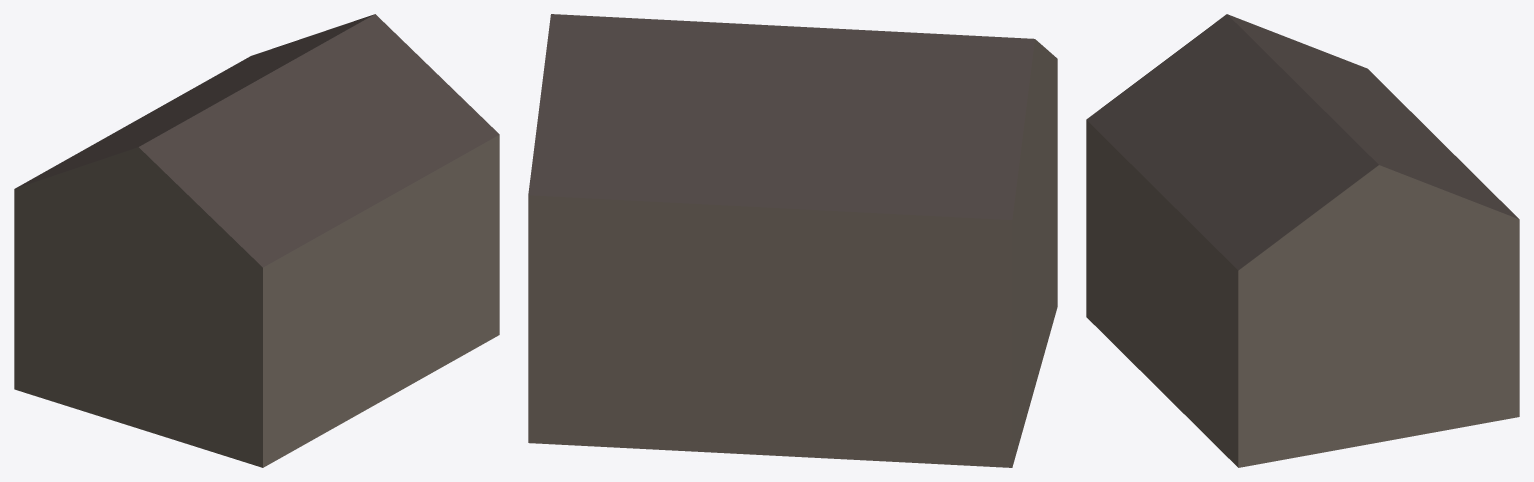
The picture shows the model from 3 angles, left to right: view 1: azimuth 30°, elevation 25°; view 2: azimuth 150°, elevation 25°; view 3: azimuth 270°, elevation 25°; orthographic projection. The views are drawn at different scales.
Visible parts, largest first — view 1: HP-w1200769506; view 2: HP-w1200769506; view 3: HP-w1200769506.
Boxes of the visible parts, x1,y1,x2,y2 form: HP-w1200769506: (14,14,499,467); HP-w1200769506: (528,14,1057,467); HP-w1200769506: (1086,14,1519,467).
Size of the model in its own units: 13.17 by 8.43 by 11.94.
